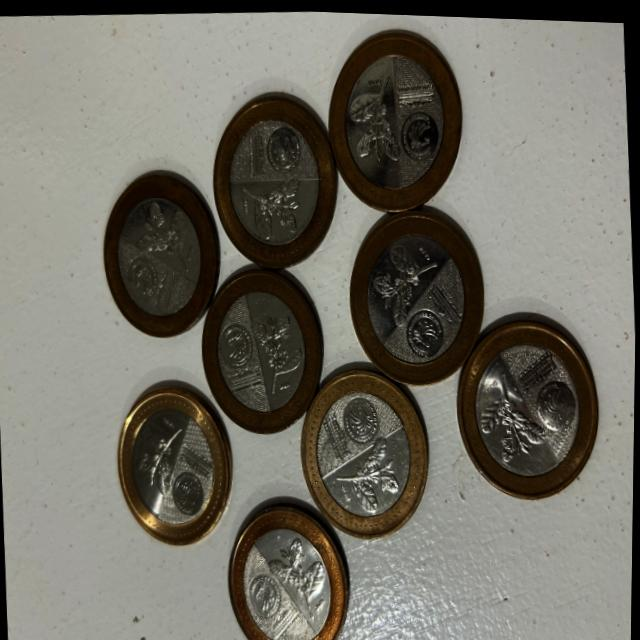20_New_Back: (480, 374, 546, 467), (348, 72, 405, 165), (265, 536, 332, 613), (373, 241, 438, 320), (251, 305, 306, 398), (335, 443, 402, 508), (241, 179, 303, 240), (135, 204, 194, 266), (132, 424, 182, 492)
